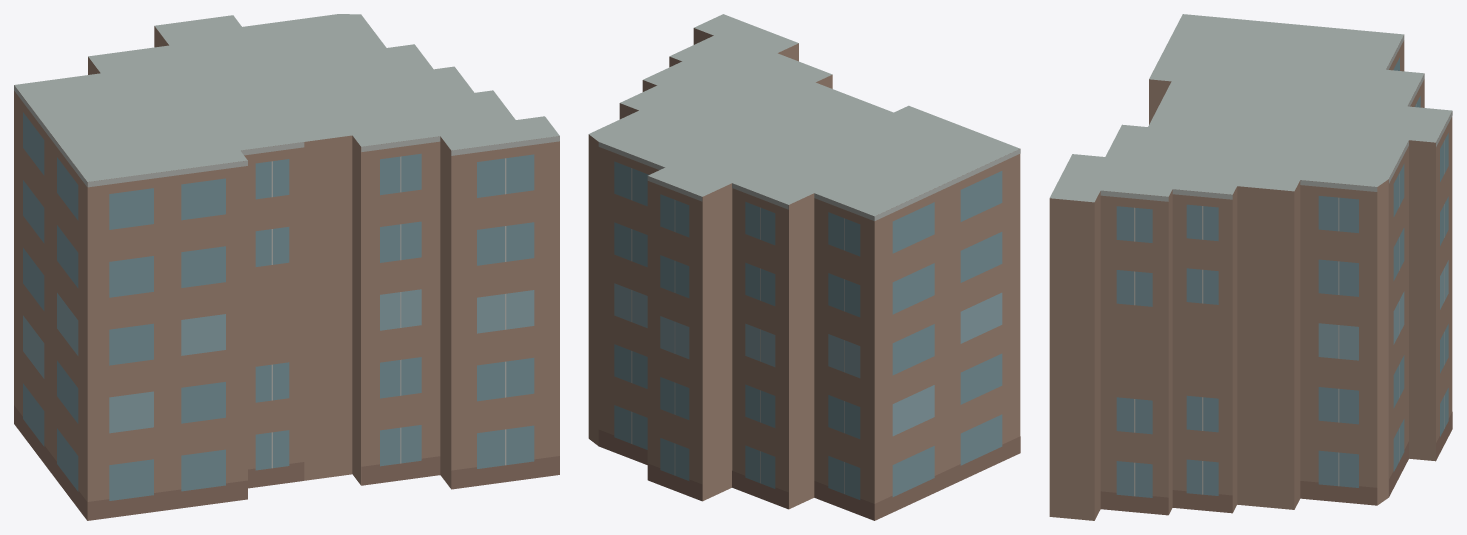
Rendered from survey-upis-32565110.glb.
3 views of the same model, side by side, from view 1: azimuth 30°, elevation 25°; view 2: azimuth 150°, elevation 25°; view 3: azimuth 270°, elevation 25° (orthographic). The views are drawn at different scales.
Visible parts, largest first — view 1: survey-upis-32565110.tmp; view 2: survey-upis-32565110.tmp; view 3: survey-upis-32565110.tmp.
Part boxes in pixels (left/top/right/bottom): survey-upis-32565110.tmp: left=14, top=14, right=559, bottom=520; survey-upis-32565110.tmp: left=588, top=14, right=1020, bottom=520; survey-upis-32565110.tmp: left=1049, top=14, right=1452, bottom=520.
Size of the model in its own units: 19.34 by 15.25 by 17.49.
